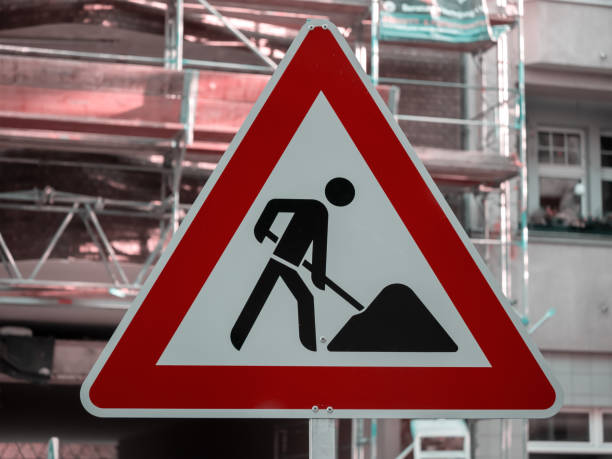yol_calismasi_levha: (79, 13, 572, 422)
